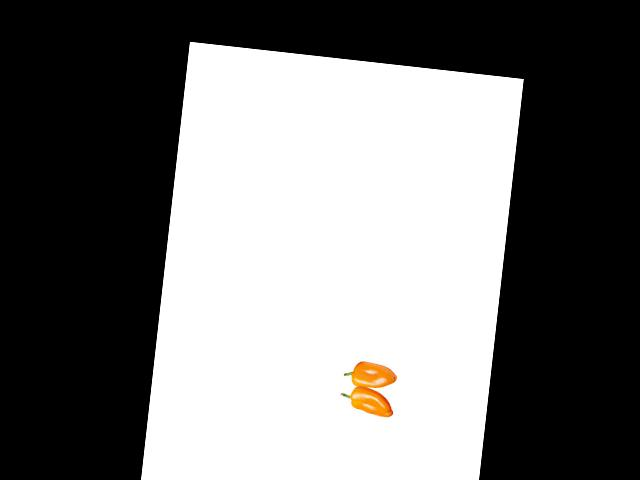bell_pepper: (341, 353, 409, 392)
